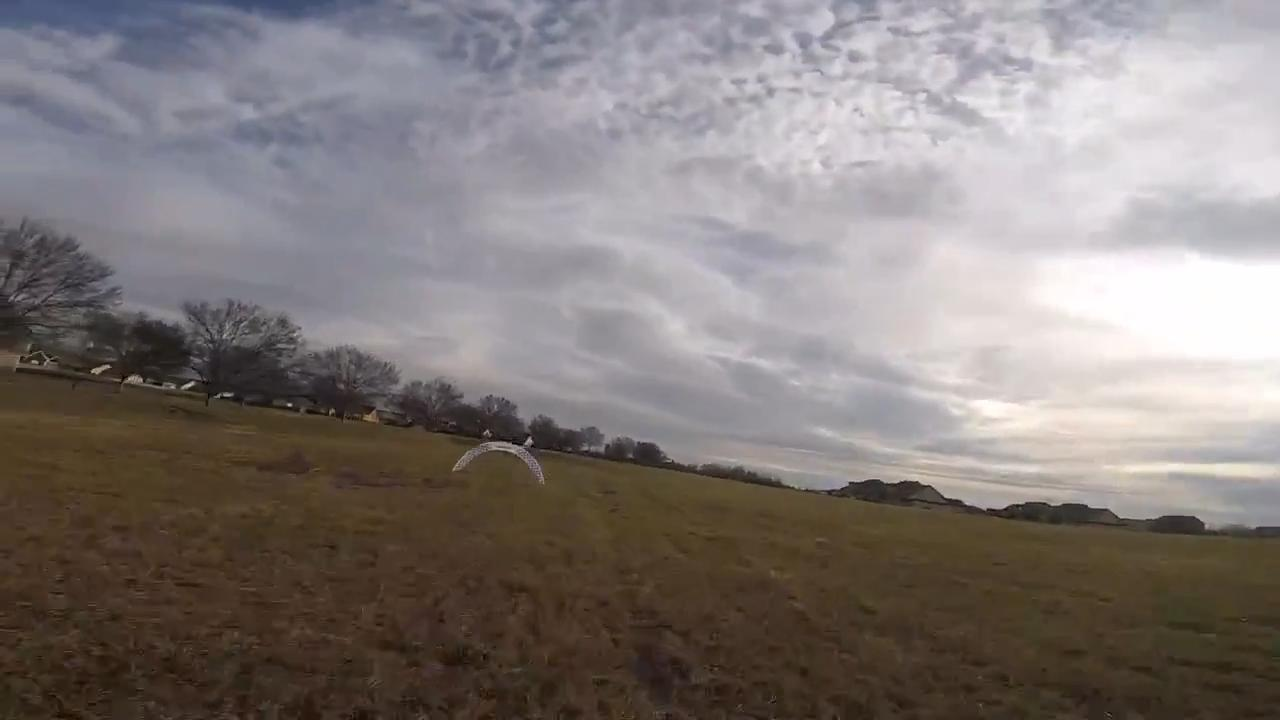gate: (450, 440, 543, 489)
